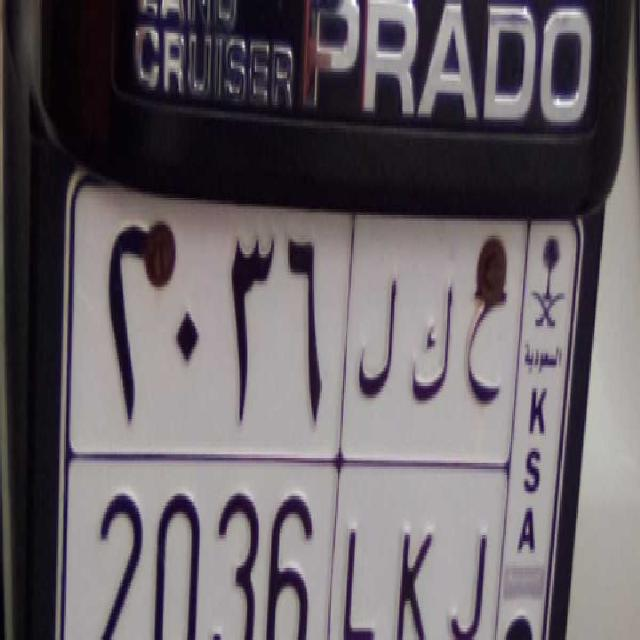license_plate: (68, 452, 496, 640)
